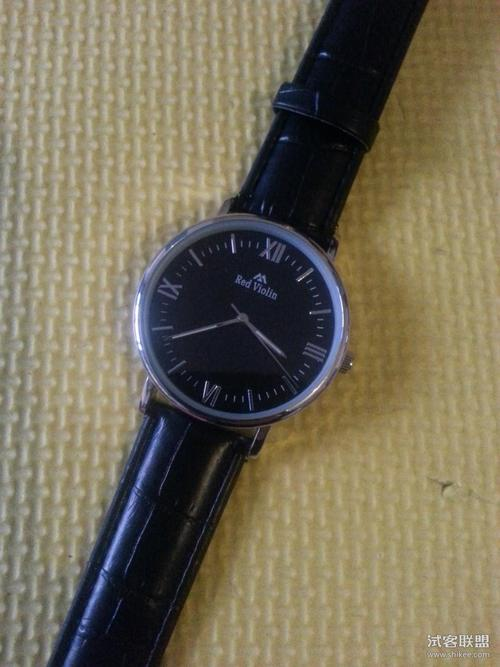watch: (121, 198, 365, 451)
